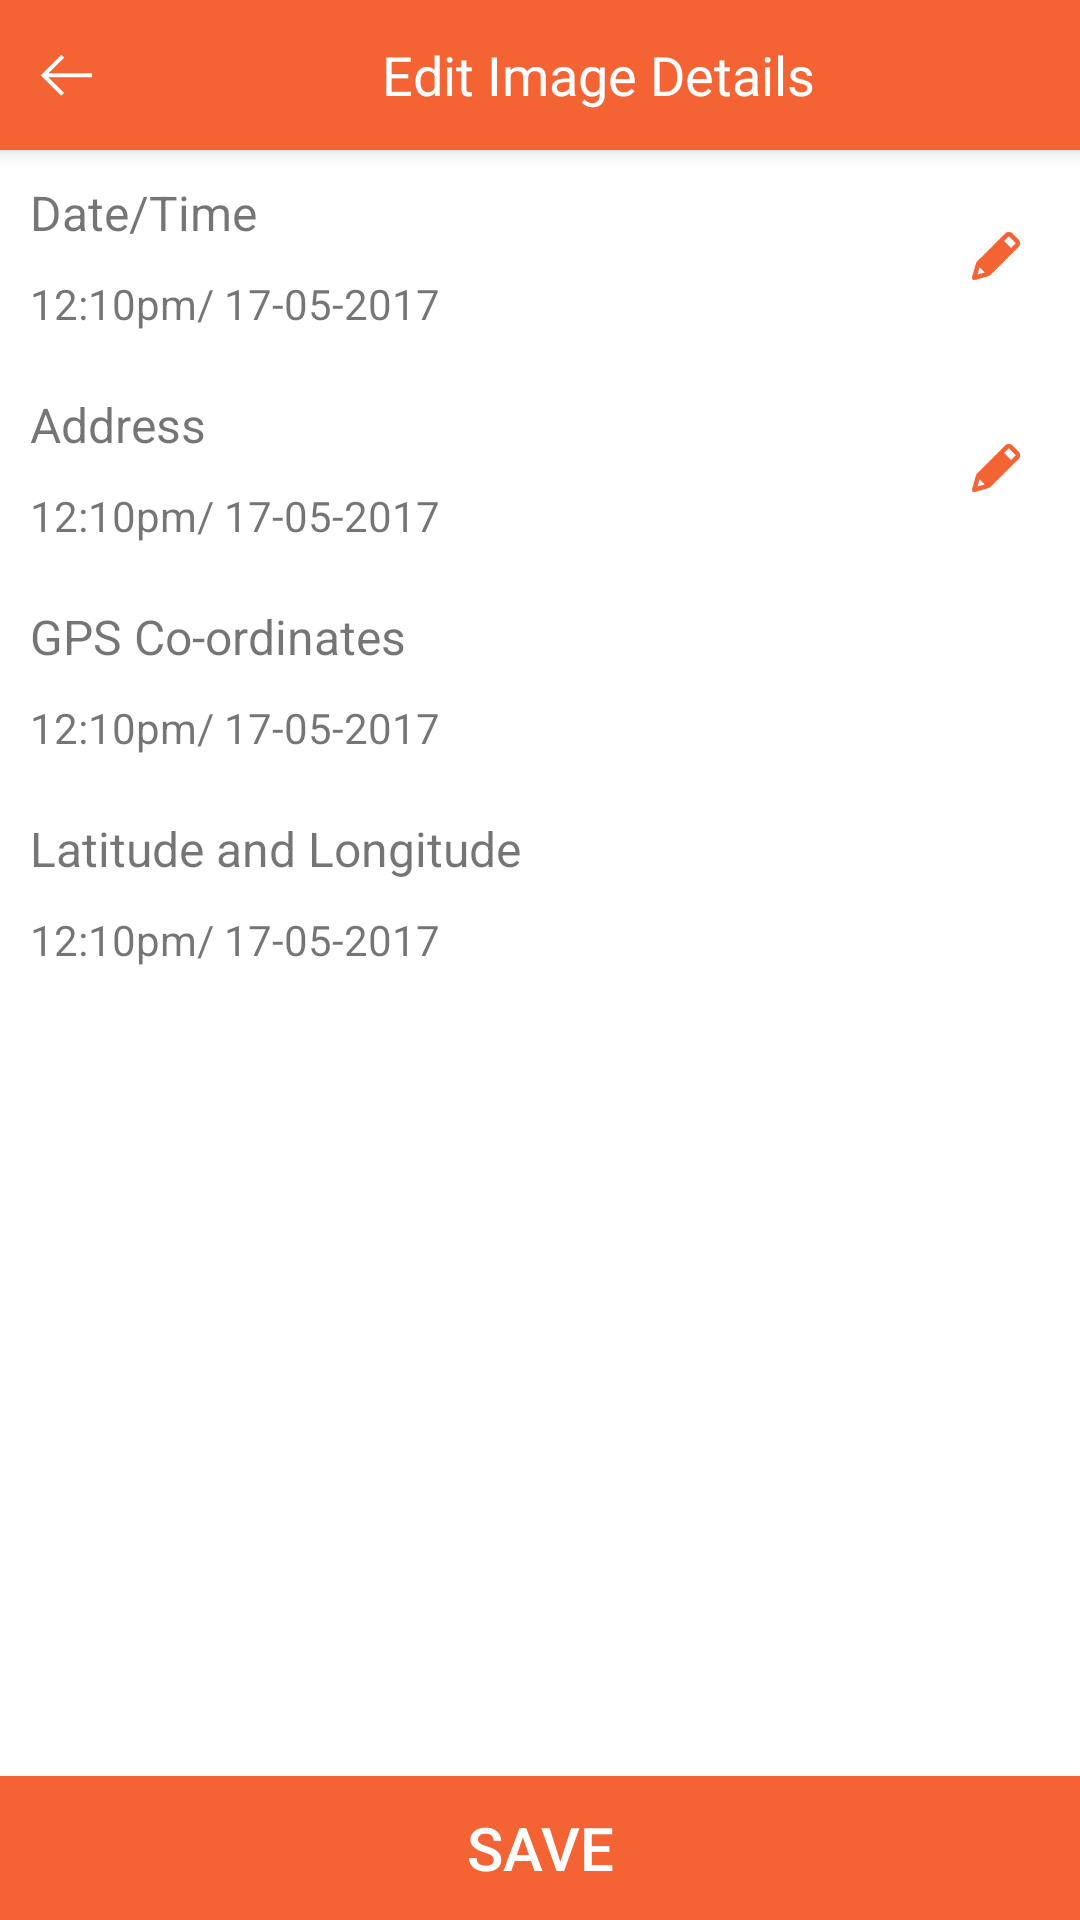

Named icons in this screenshot (1080x1920) and their bounding boxes, (x1, y1, x2, y2):
back arrow: (41, 55, 92, 96)
